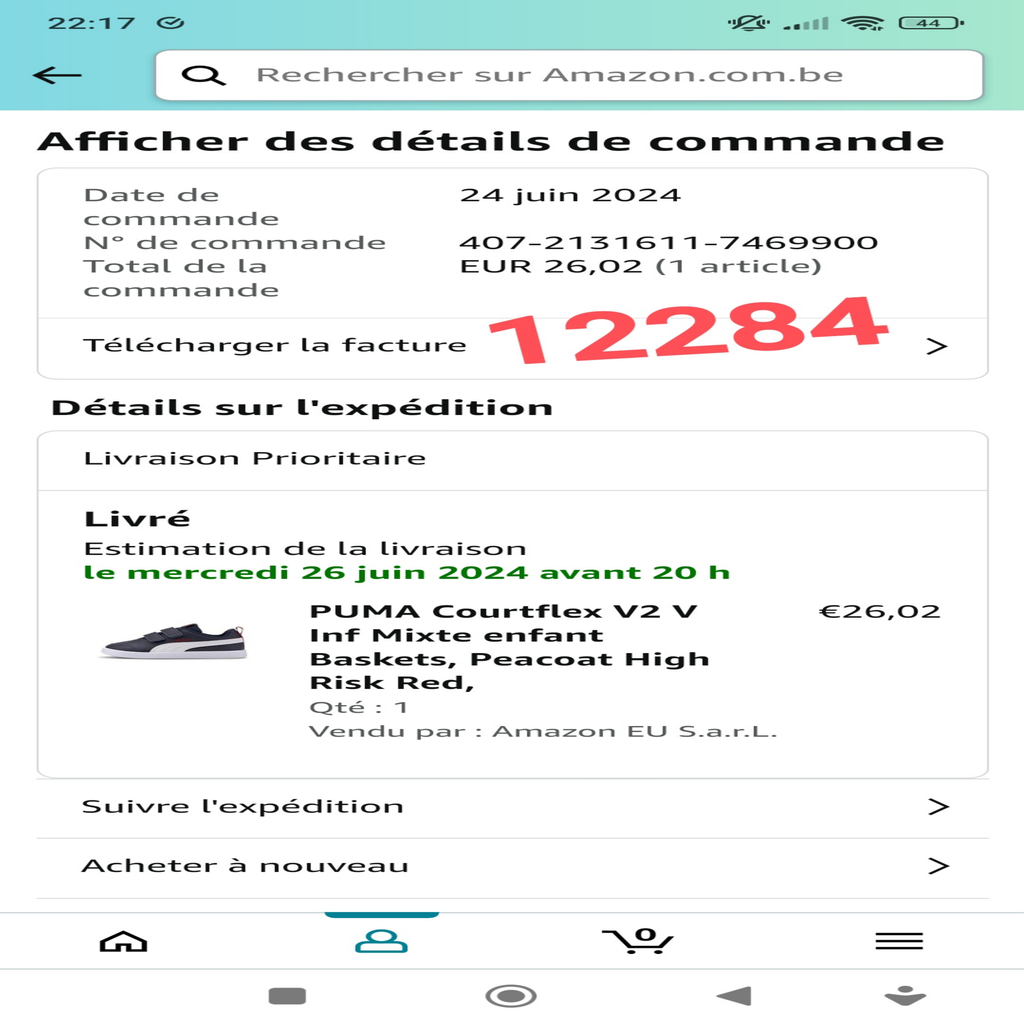recipt: (0, 109, 1018, 911)
